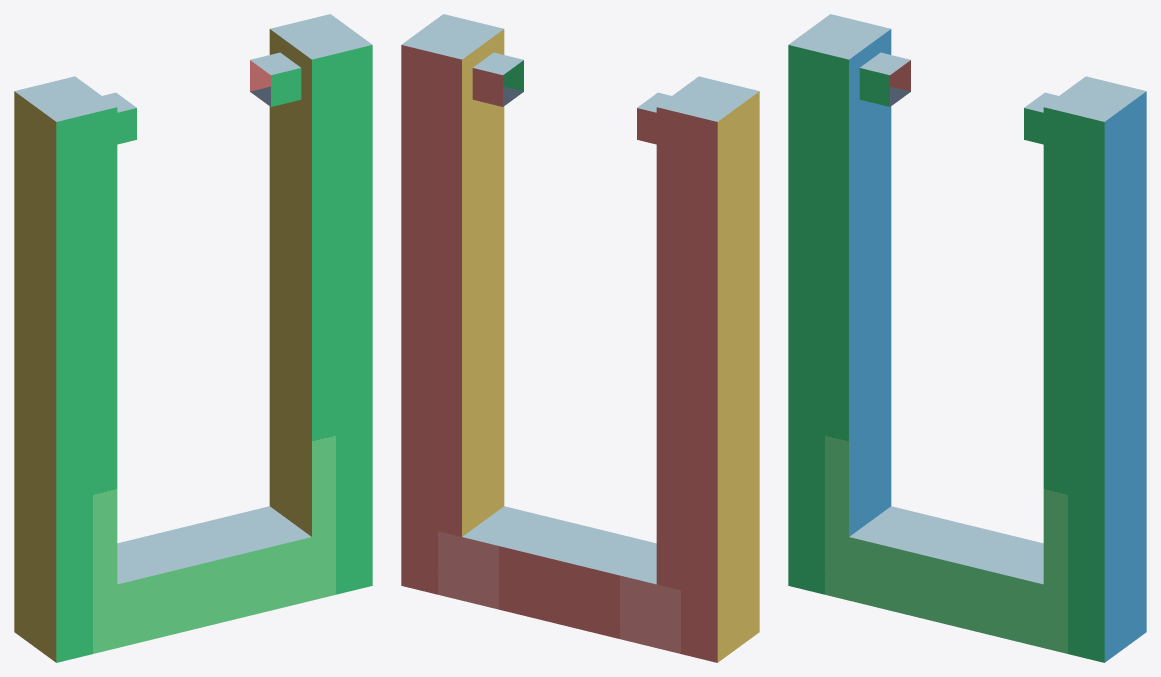
File: lever_bar.obj
3 views of the same model, side by side, from view 1: azimuth 30°, elevation 25°; view 2: azimuth 150°, elevation 25°; view 3: azimuth 330°, elevation 25° (orthographic).
Parts seen in each view (by area): view 1: bar; view 2: bar; view 3: bar.
Part boxes in pixels (x1,y1,x2,y2): bar: (14,14,372,662); bar: (401,14,759,662); bar: (788,14,1146,662).
Size of the model in its own units: 0.1625 by 0.2656 by 0.0375.
1 material, 1 textured.
